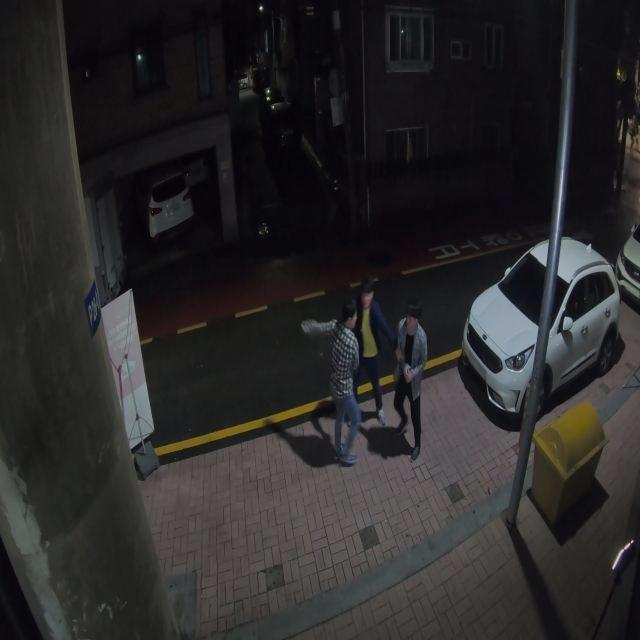fight: (315, 280, 425, 470)
